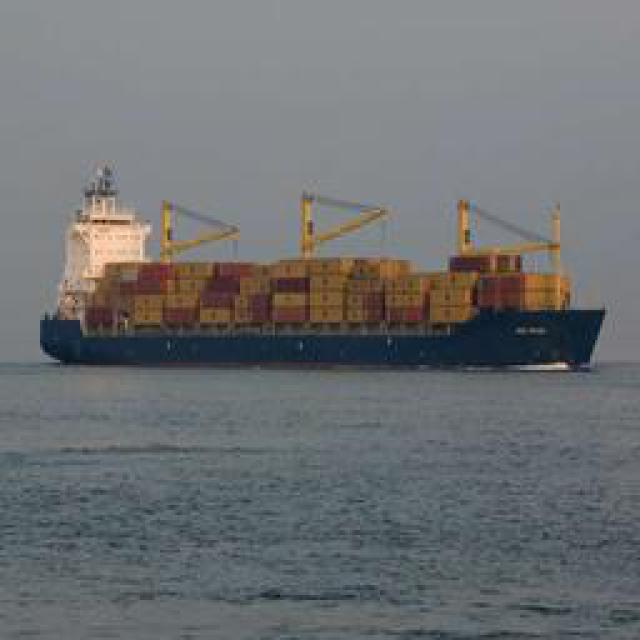Ship: (34, 154, 610, 373)
